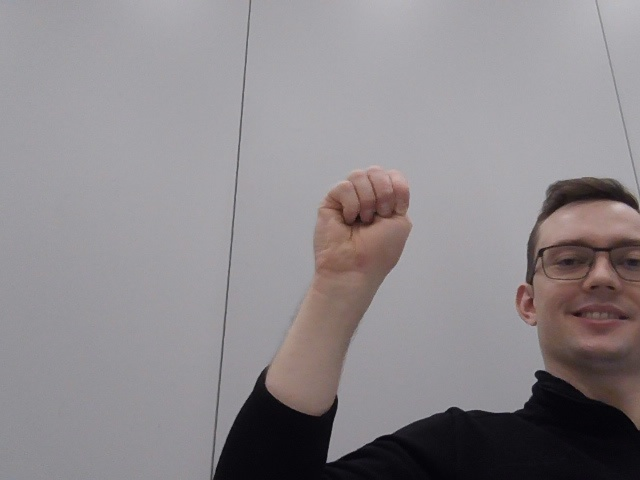down: (293, 149, 424, 302)
